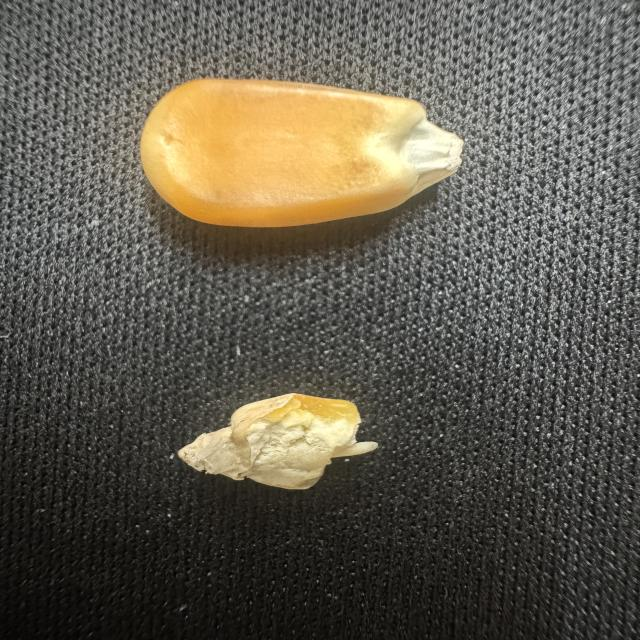Bad-Seed: (170, 383, 387, 498)
Good-Seed: (132, 74, 474, 235)
